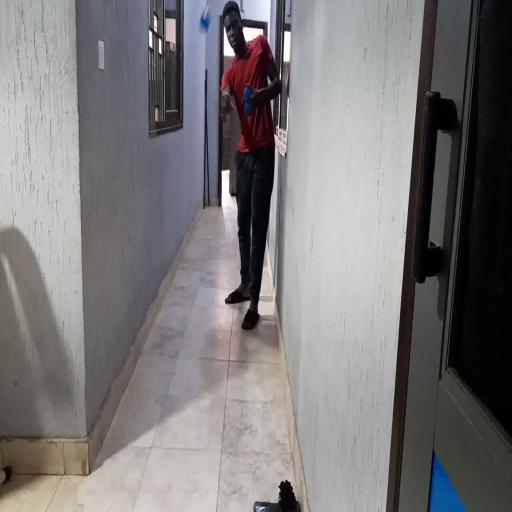plastic-ball: (196, 7, 210, 36)
